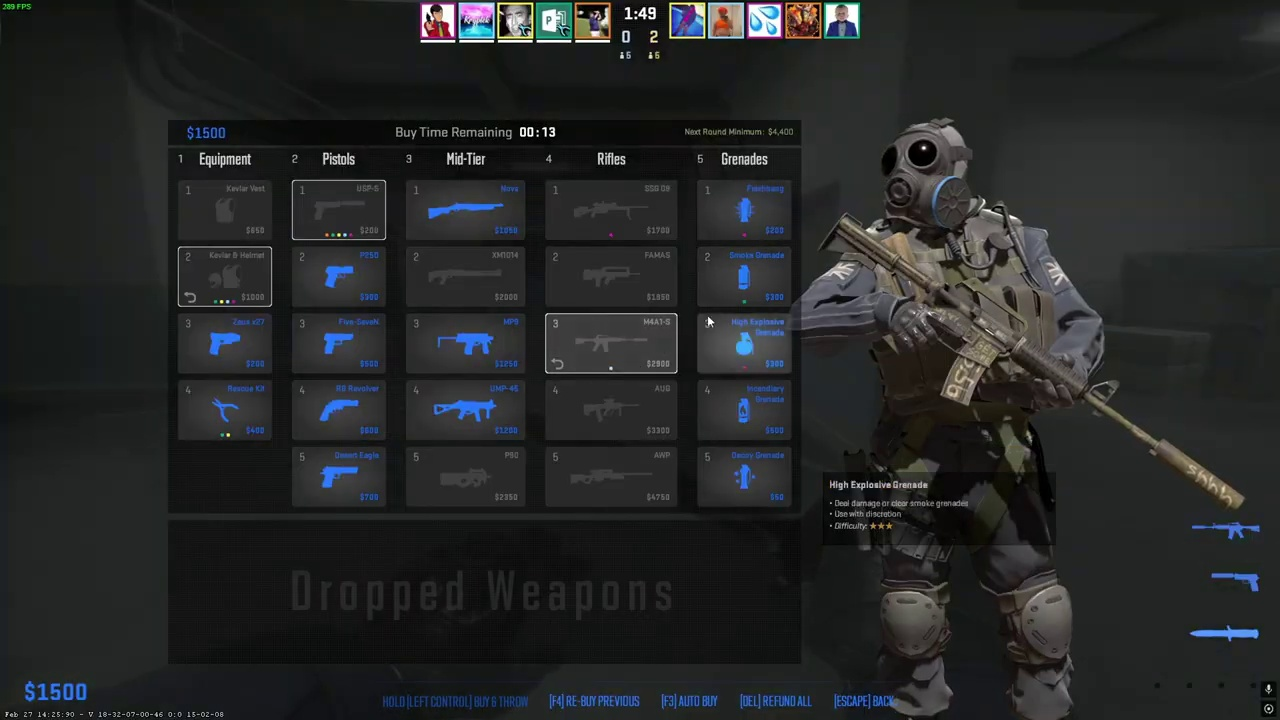CT: (852, 122, 1091, 720)
